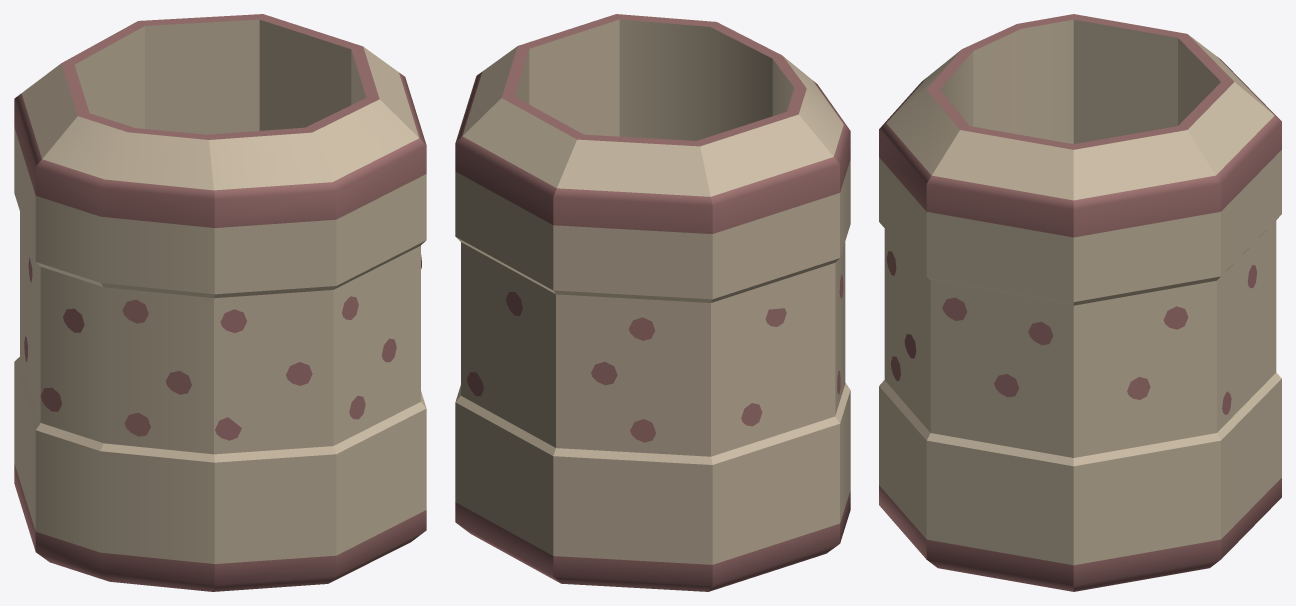
File: SM_Food_Container_04.fbx
The picture shows the model from 3 angles, left to right: view 1: azimuth 30°, elevation 25°; view 2: azimuth 150°, elevation 25°; view 3: azimuth 270°, elevation 25°; orthographic projection. The views are drawn at different scales.
Parts seen in each view (by area): view 1: Food_Container_04; view 2: Food_Container_04; view 3: Food_Container_04.
Part boxes in pixels (x1=…): Food_Container_04: x1=14, y1=14, x2=426, y2=591; Food_Container_04: x1=455, y1=14, x2=850, y2=591; Food_Container_04: x1=879, y1=14, x2=1281, y2=591.
Bounding box in the file's own units: 33.78 × 38.39 × 32.7.
